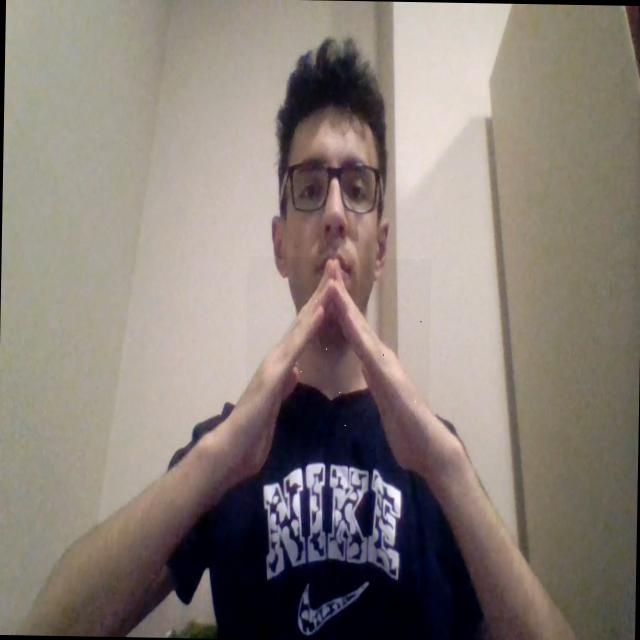house: (243, 256, 431, 473)
